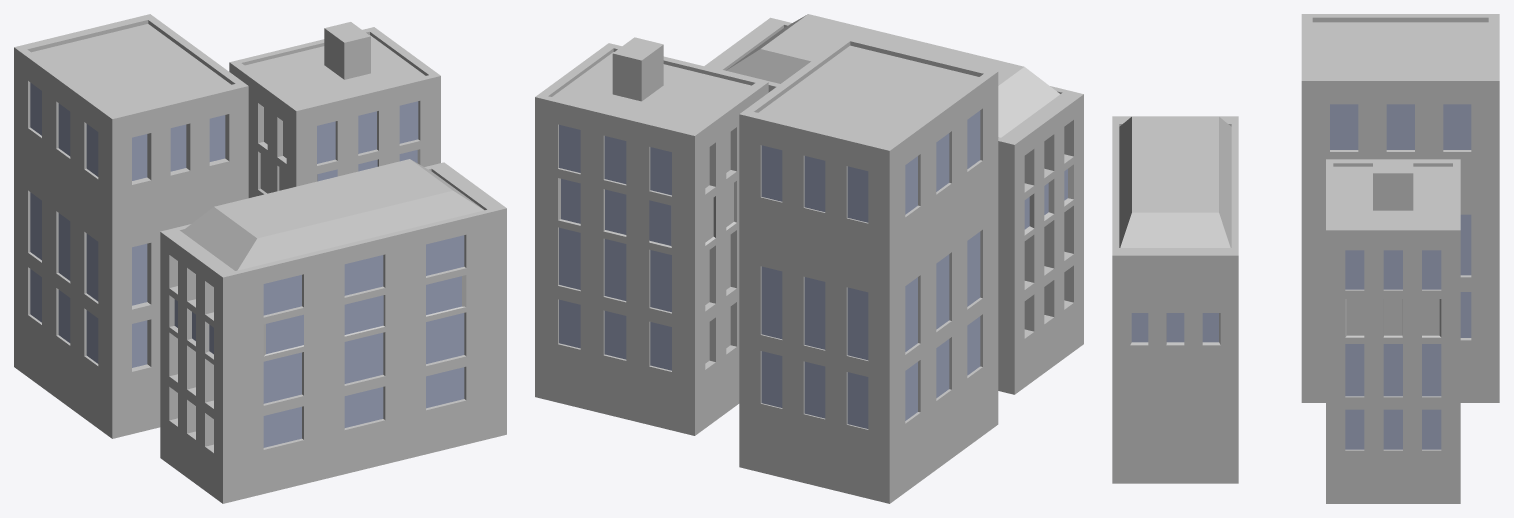
Rendered from Colapse_B_OfficeCluster_B.fbx.
3 renders of one model, left to right at view 1: azimuth 30°, elevation 25°; view 2: azimuth 150°, elevation 25°; view 3: azimuth 270°, elevation 25°, orthographic. The views are drawn at different scales.
Visible parts, largest first — view 1: 1, 2, 3; view 2: 1, 2, 3; view 3: 1, 2, 3.
Part boxes in pixels (x1=…): 1: x1=14, y1=14, x2=506, y2=327; 2: x1=14, y1=180, x2=506, y2=425; 3: x1=14, y1=305, x2=506, y2=503; 1: x1=535, y1=14, x2=1083, y2=297; 2: x1=535, y1=149, x2=1083, y2=434; 3: x1=535, y1=258, x2=1083, y2=503; 1: x1=1112, y1=14, x2=1499, y2=337; 2: x1=1112, y1=214, x2=1499, y2=409; 3: x1=1112, y1=338, x2=1499, y2=503.
Bounding box in the file's own units: 170 × 153 × 166.
